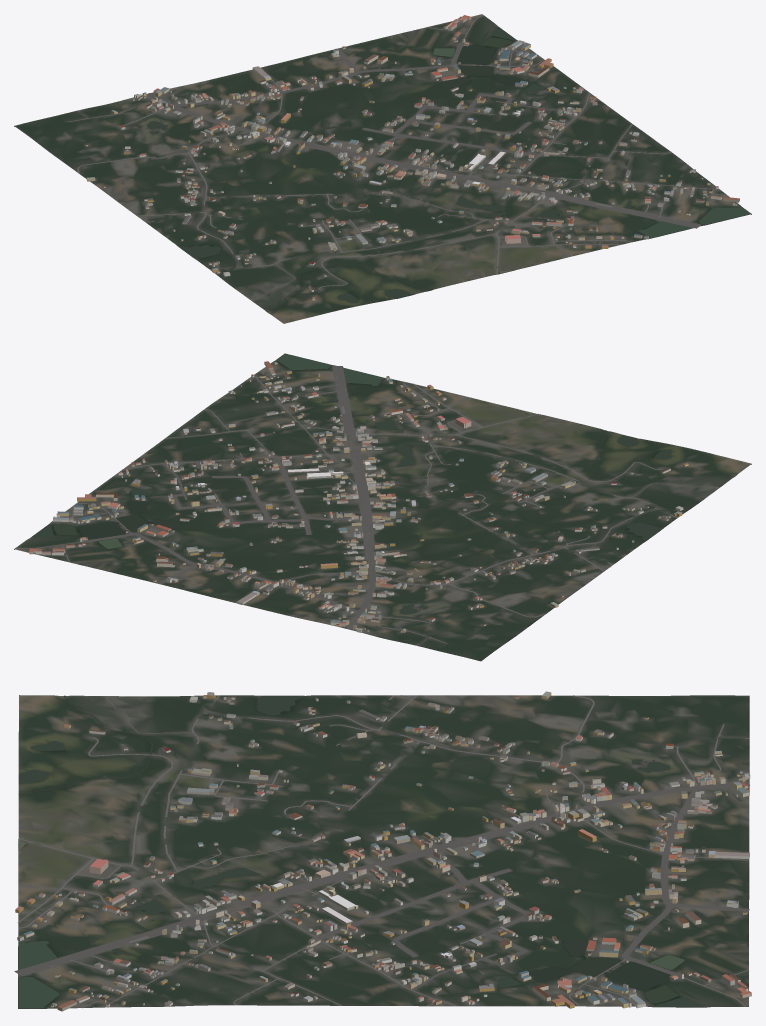
The picture shows the model from 3 angles, top to bottom: view 1: azimuth 30°, elevation 25°; view 2: azimuth 150°, elevation 25°; view 3: azimuth 270°, elevation 25°; orthographic projection. The views are drawn at different scales.
Parts seen in each view (by area): view 1: ground, buildings, roads, water; view 2: ground, buildings, roads, water; view 3: ground, buildings, roads, water.
Boxes of the visible parts, box(x1,y1,x2,y2) form: ground: box(14, 14, 751, 323); buildings: box(85, 15, 739, 300); roads: box(67, 14, 727, 301); water: box(146, 26, 750, 311); ground: box(14, 353, 751, 661); buildings: box(29, 361, 688, 632); roads: box(15, 366, 720, 645); water: box(31, 353, 734, 614); ground: box(18, 695, 749, 1008); buildings: box(15, 691, 751, 1011); roads: box(14, 695, 749, 1008); water: box(18, 695, 703, 1008).
Bounding box in the file's own units: 1417 × 23.54 × 1416.
